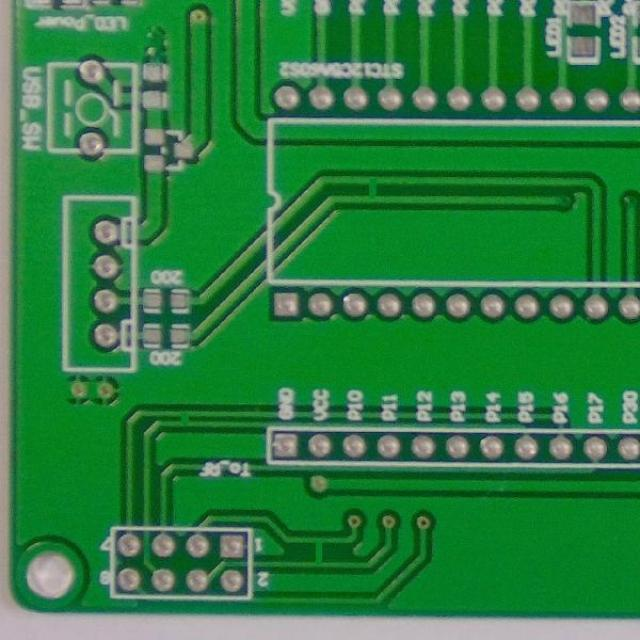Short_Circuit: (304, 532, 333, 575), (358, 170, 390, 208), (172, 406, 198, 429)
